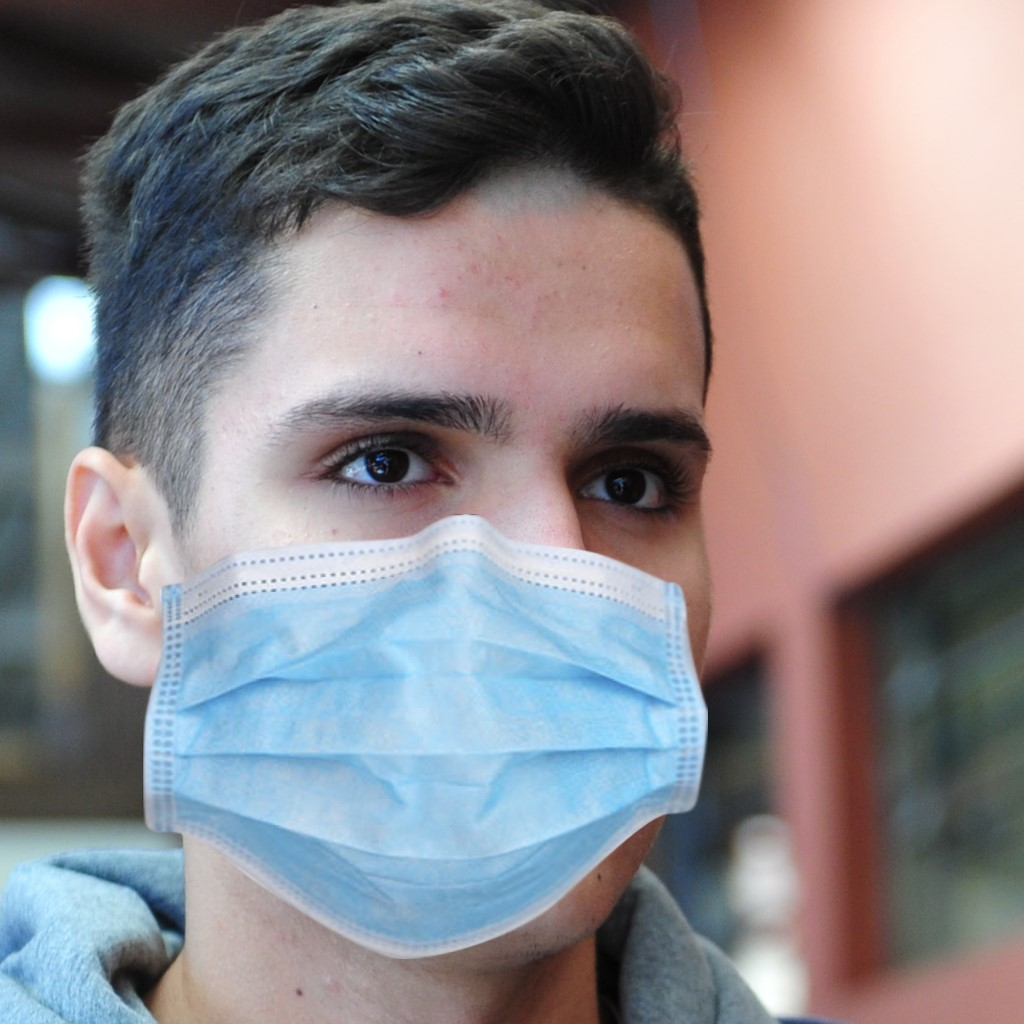con_mascara: (137, 145, 720, 970)
